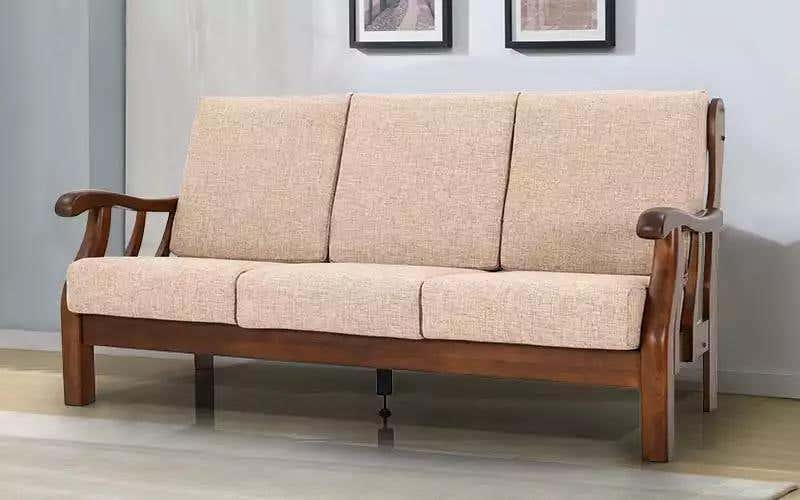3seatersofa: (55, 91, 724, 461)
backrest: (176, 91, 706, 273)
base: (83, 316, 640, 388)
leftarmrest: (637, 98, 724, 239)
leg: (60, 205, 175, 405), (639, 226, 720, 461), (192, 354, 213, 370)
rightarmrest: (55, 190, 177, 216)
seat: (67, 257, 649, 350)
